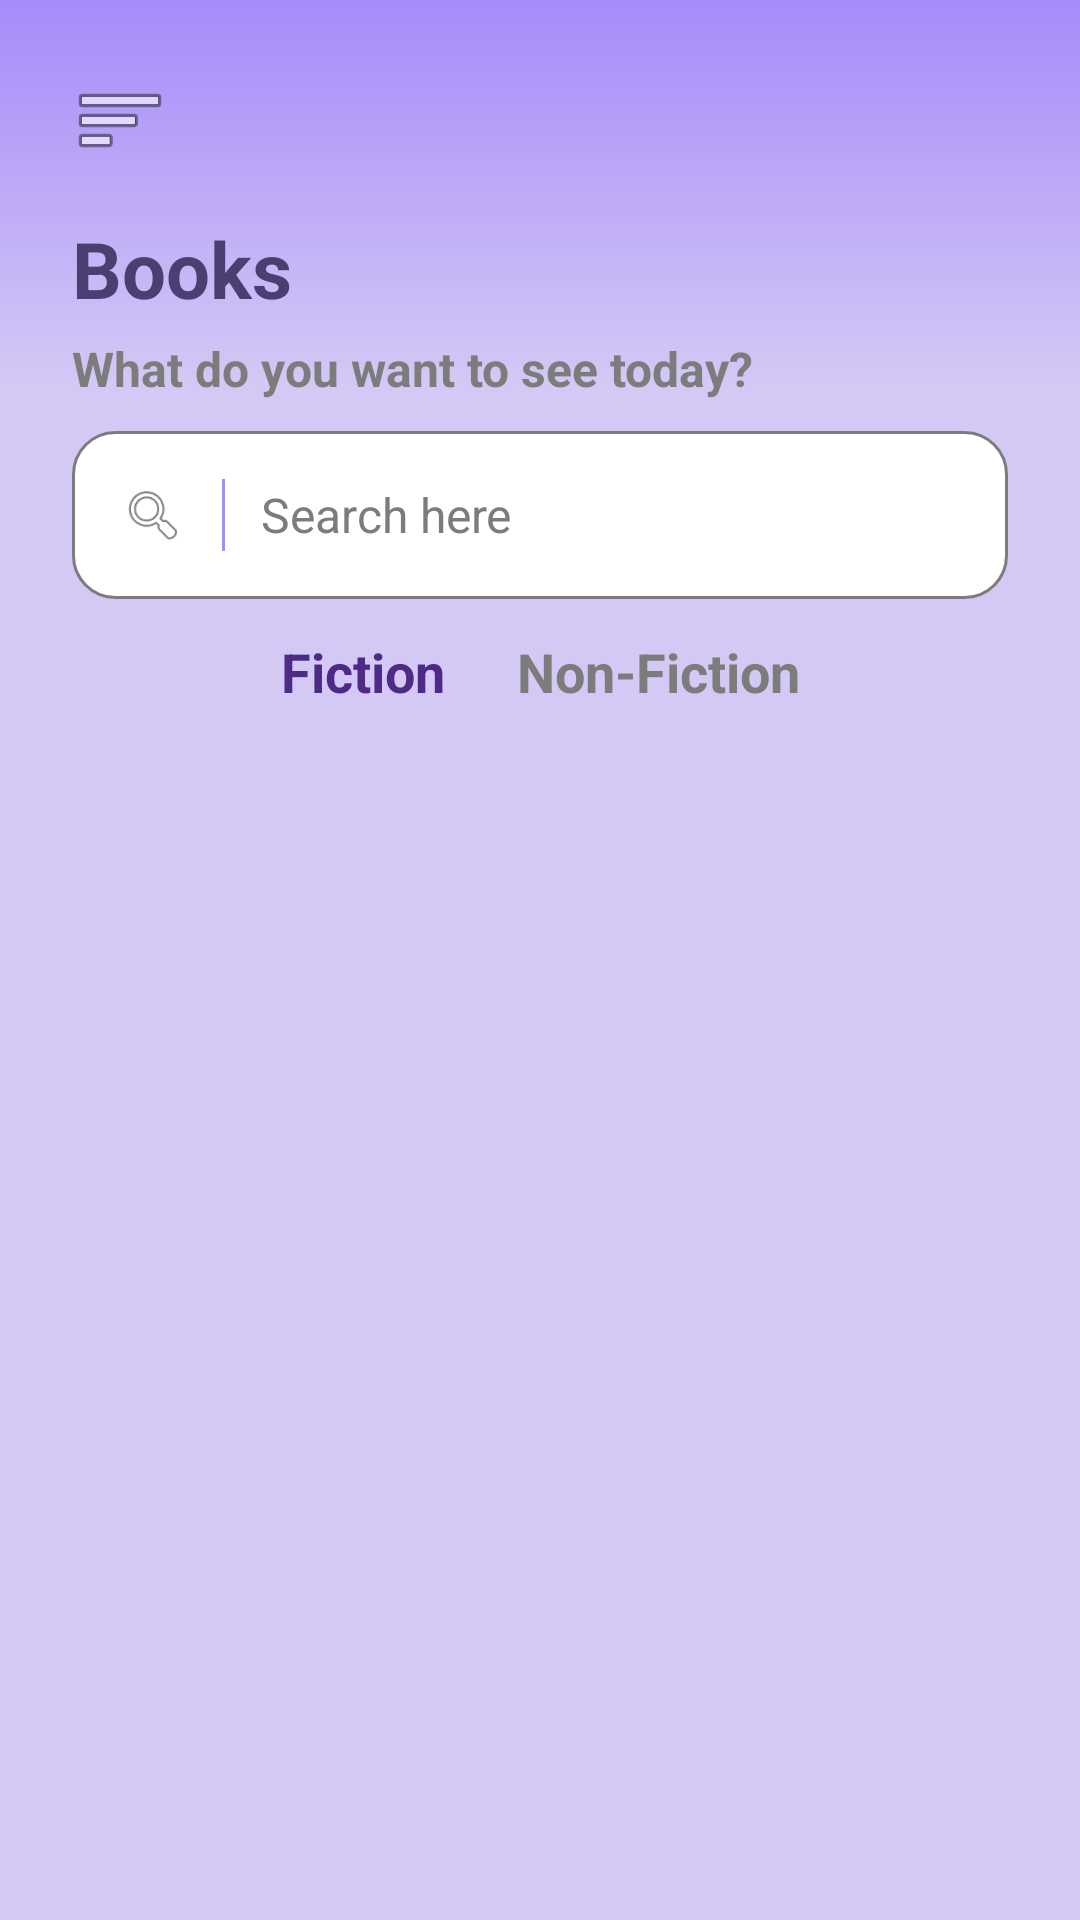

Where to tap for icons on this 1080×1920 app screen, as (x,y):
Menu: (120,120)
